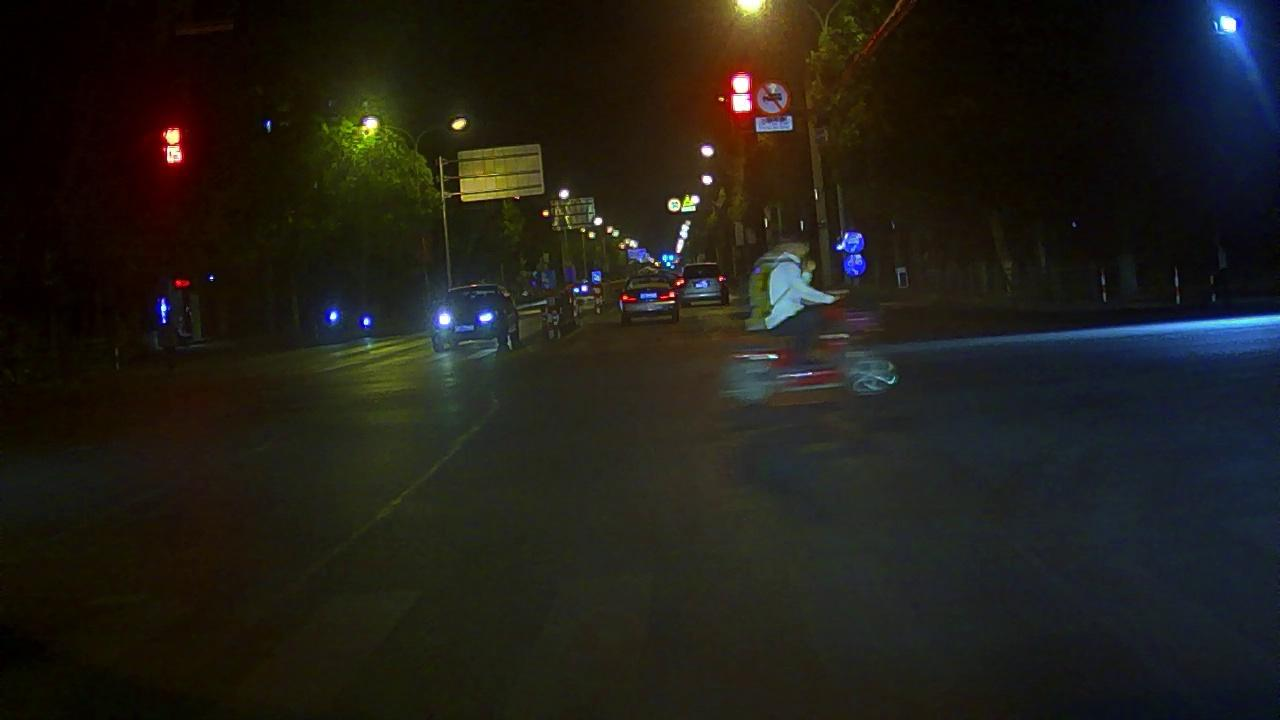traffic_light: (722, 64, 757, 120), (157, 119, 191, 172)
